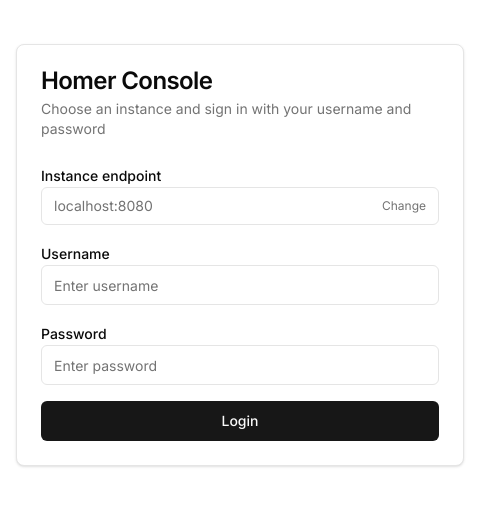
Test: LoginPage › surfaces a server-unreachable message on a non-auth error
Type "alice" into the field labelled "Username" at x=240, y=285, box [41,265,439,305]
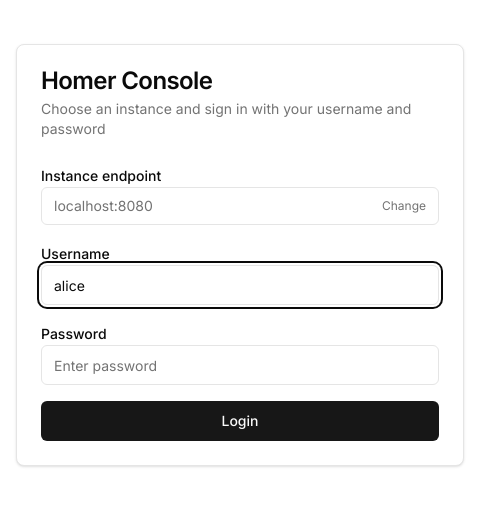
Type "pw" into the password field labelled "Password" at x=240, y=365, box [41,345,439,385]
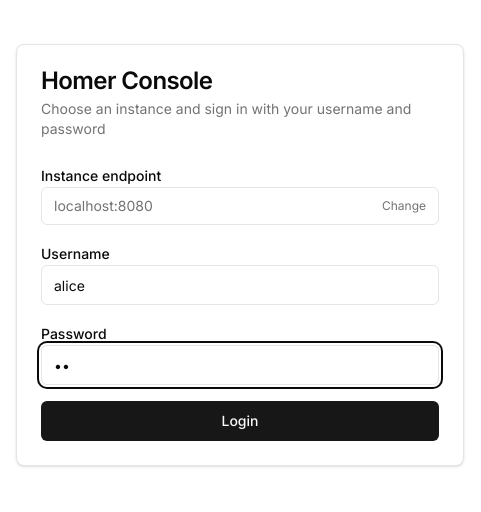
Click the button "Login" at x=240, y=421, box [41,401,439,441]
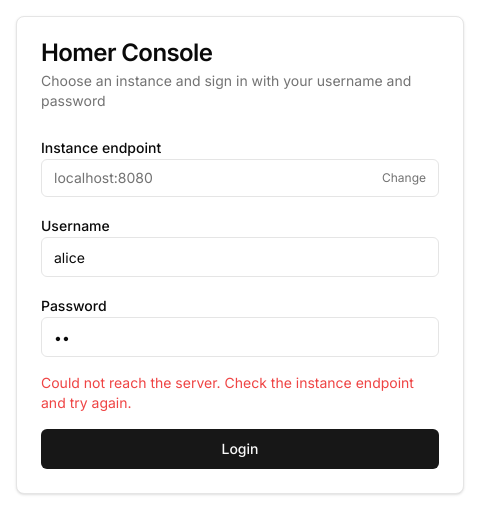
Expected: the text "Could not reach the server" is shown, [41,374,414,411]
